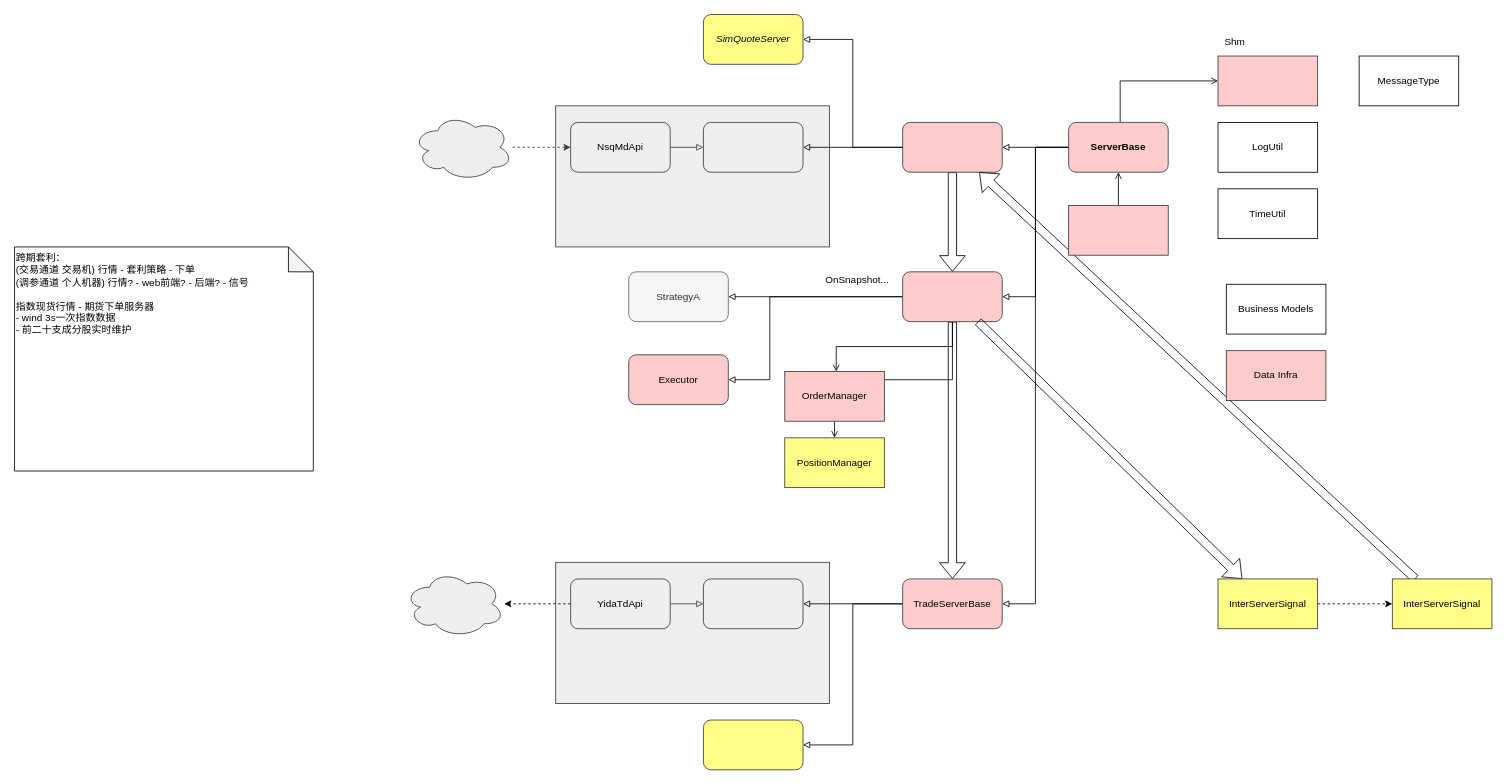
This 1506x784 diagram has some shape labels left out. The box of each missing label's shape, as (x1, y1, x2, y2) in pixels:
NsqQuoteServer: (703, 122, 803, 172)
QuoteServerBase: (902, 122, 1002, 172)
ServerManager: (1068, 205, 1168, 255)
ShmFifo: (1217, 55, 1318, 106)
SimTradeServer: (703, 719, 803, 770)
StrategyServerBase: (902, 271, 1002, 322)
YidaTradeServer: (703, 578, 803, 629)
